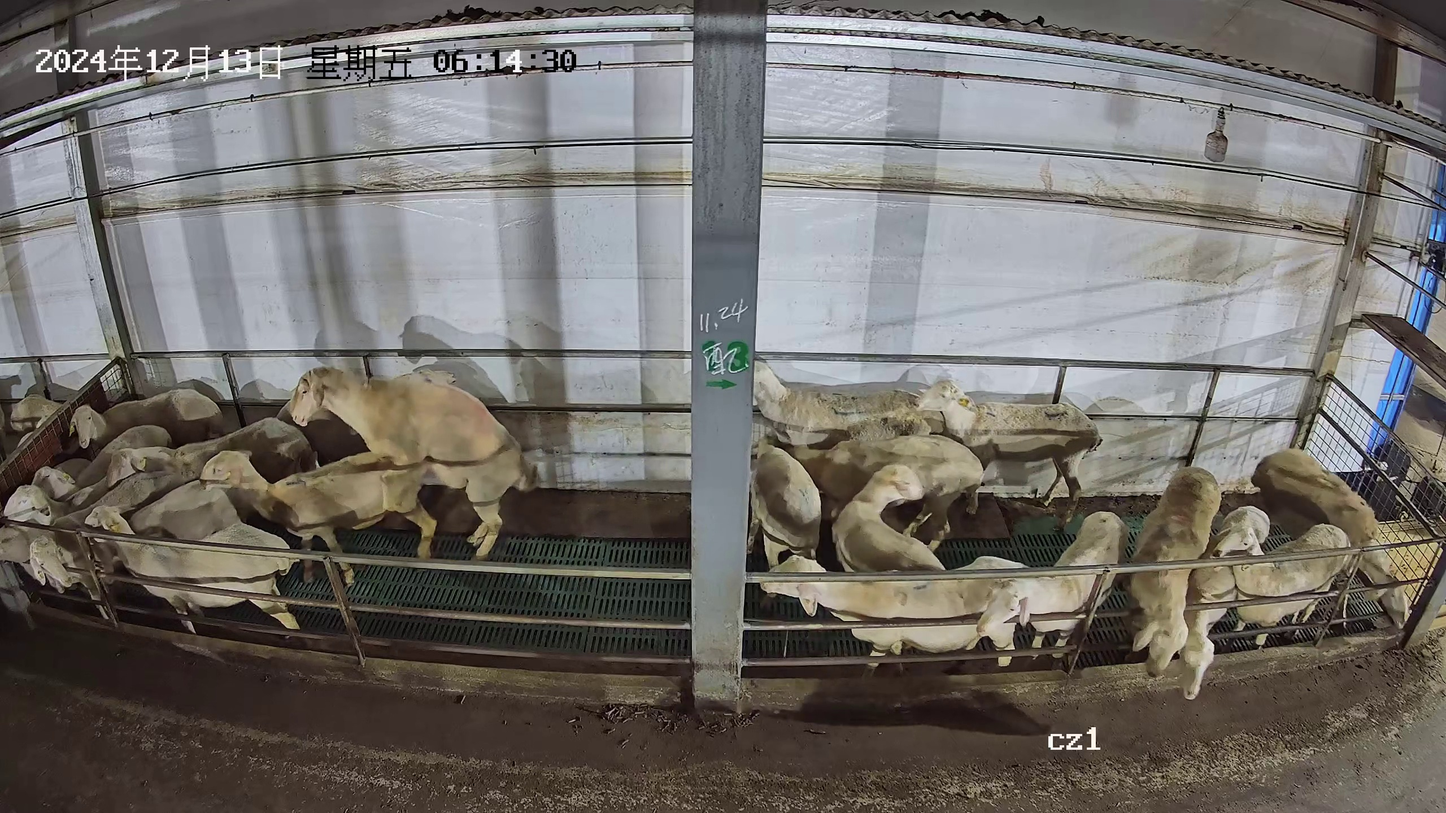Smounting: (193, 364, 528, 589)
mounted: (197, 445, 440, 587)
